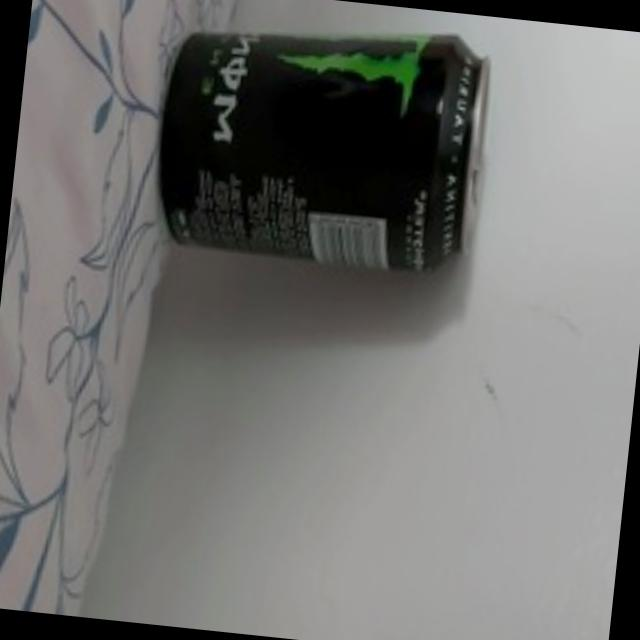Metal: (144, 2, 497, 284)
